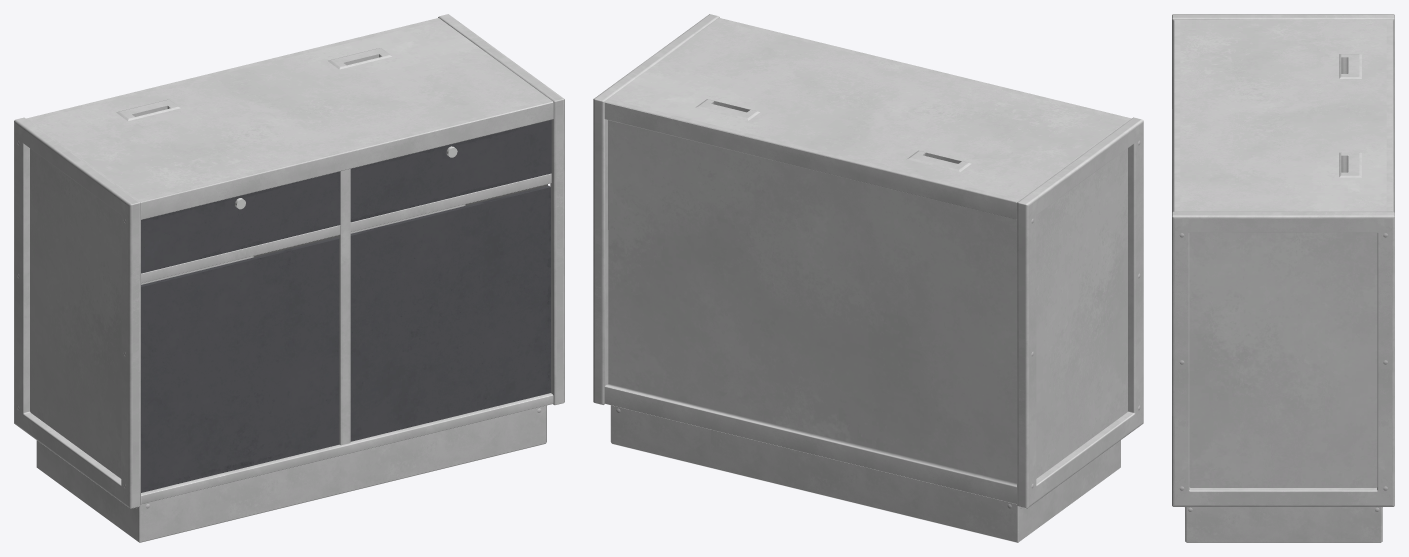
File: SM_Counter_01d.glb
The picture shows the model from 3 angles, left to right: view 1: azimuth 30°, elevation 25°; view 2: azimuth 150°, elevation 25°; view 3: azimuth 270°, elevation 25°; orthographic projection. The views are drawn at different scales.
Visible parts, largest first — view 1: SM_Counter_01d; view 2: SM_Counter_01d; view 3: SM_Counter_01d.
Boxes of the visible parts, x1=… form: SM_Counter_01d: x1=14, y1=14, x2=564, y2=542; SM_Counter_01d: x1=593, y1=14, x2=1143, y2=542; SM_Counter_01d: x1=1172, y1=14, x2=1394, y2=542.
Bounding box in the file's own units: 1.32 × 1 × 0.6094.
1 material, 1 textured.
